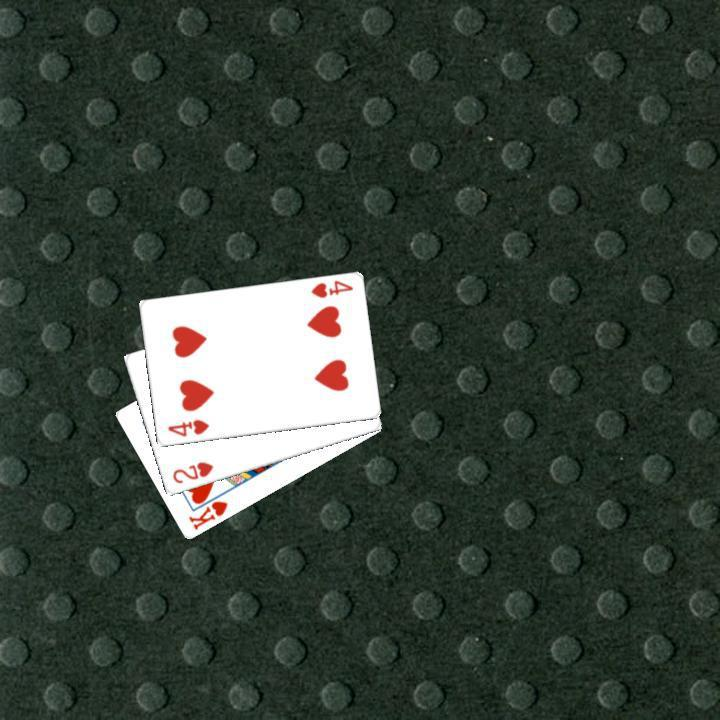2: (168, 458, 215, 486)
4: (163, 415, 211, 439), (306, 276, 354, 300)
K: (184, 497, 230, 532)
